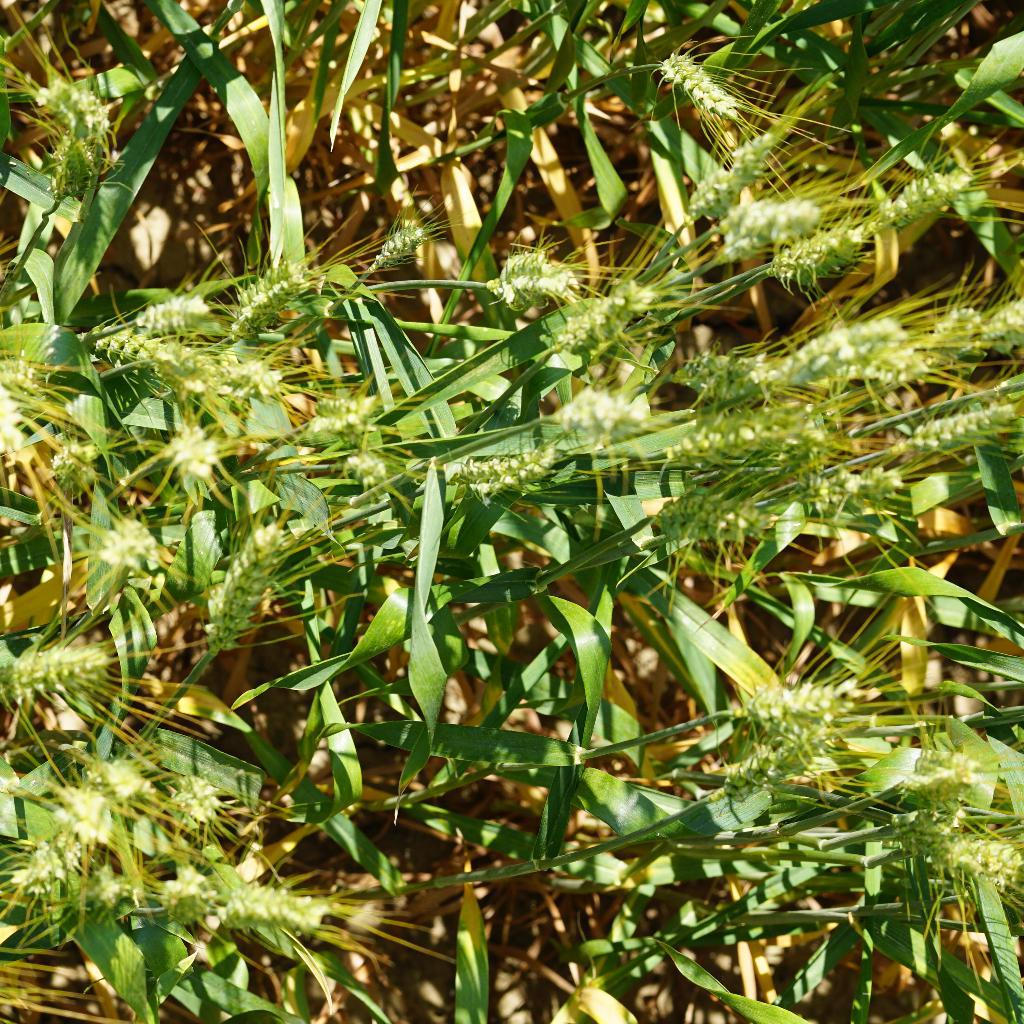0-0: (96, 320, 283, 407), (204, 527, 311, 650), (874, 799, 1024, 885), (651, 394, 835, 464), (428, 419, 557, 504), (860, 153, 984, 233), (642, 325, 776, 399), (0, 635, 124, 714), (780, 314, 908, 390), (646, 482, 781, 554), (212, 877, 336, 952), (548, 275, 671, 348), (679, 120, 765, 224), (658, 32, 748, 129), (885, 397, 1024, 458), (737, 668, 866, 733), (537, 366, 656, 436), (0, 829, 88, 922), (703, 187, 815, 253), (30, 75, 129, 146), (230, 256, 309, 342), (760, 224, 874, 283), (800, 459, 908, 519), (882, 750, 980, 810), (94, 511, 180, 579), (27, 133, 114, 200), (488, 253, 575, 317), (728, 725, 826, 781), (913, 302, 990, 373), (361, 213, 439, 281), (106, 211, 140, 360), (332, 428, 402, 500), (131, 287, 224, 337), (303, 380, 369, 447), (164, 419, 227, 485), (153, 859, 212, 929), (82, 744, 150, 803), (44, 430, 105, 493), (169, 776, 230, 837), (82, 852, 133, 919), (0, 343, 50, 409)
